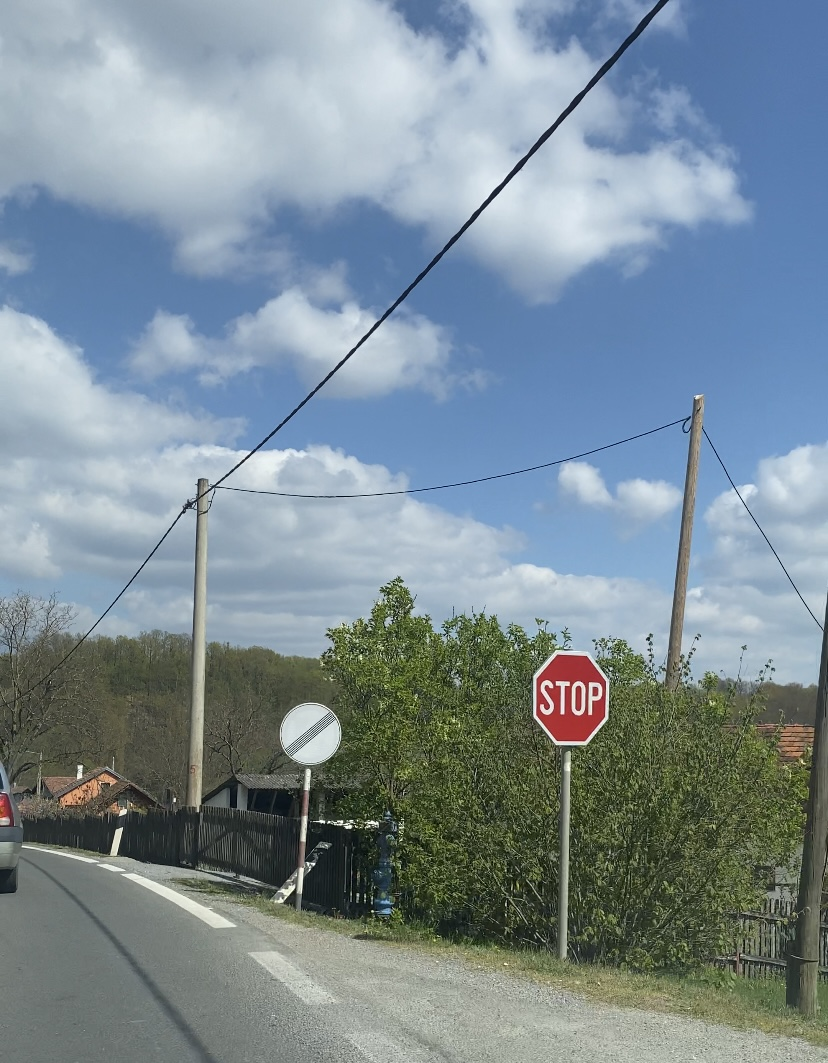Obavezno zaustavljanje: (533, 649, 610, 745)
